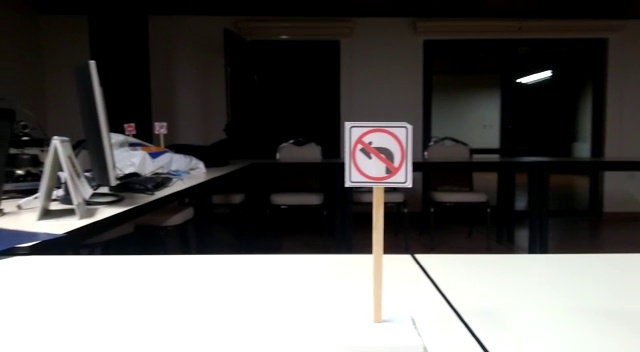sola_donulmez: (346, 124, 410, 186)
